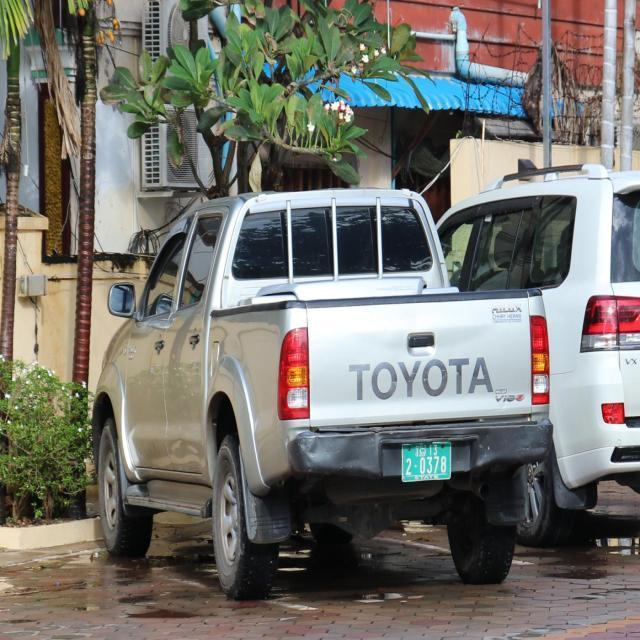State: (415, 445, 427, 458)
